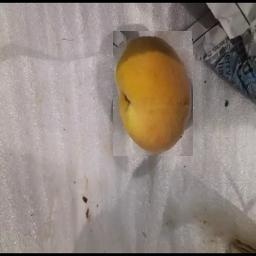Peach Semifresh: (114, 31, 194, 156)
